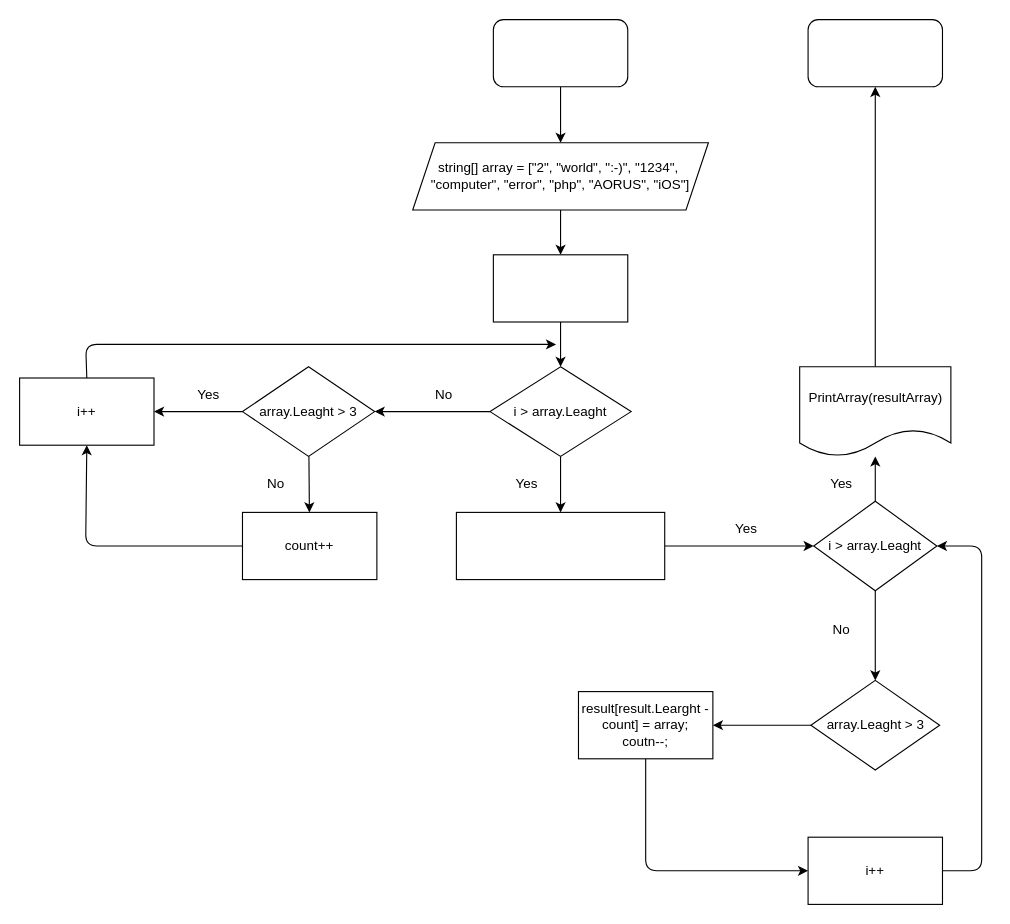
Image size: 1010x924. Some labels were removed from this diagram. The centre of each missing label's shape, as x and y in pixels:
"count = 0; i = 0;" goes at point (560, 288).
"End" goes at point (874, 52).
"Start" goes at point (560, 52).
"strint[] result = new string[count]; i = 0;" goes at point (560, 545).
